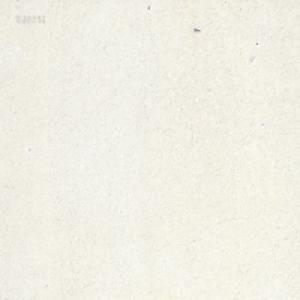Nail: (193, 27, 200, 33)
